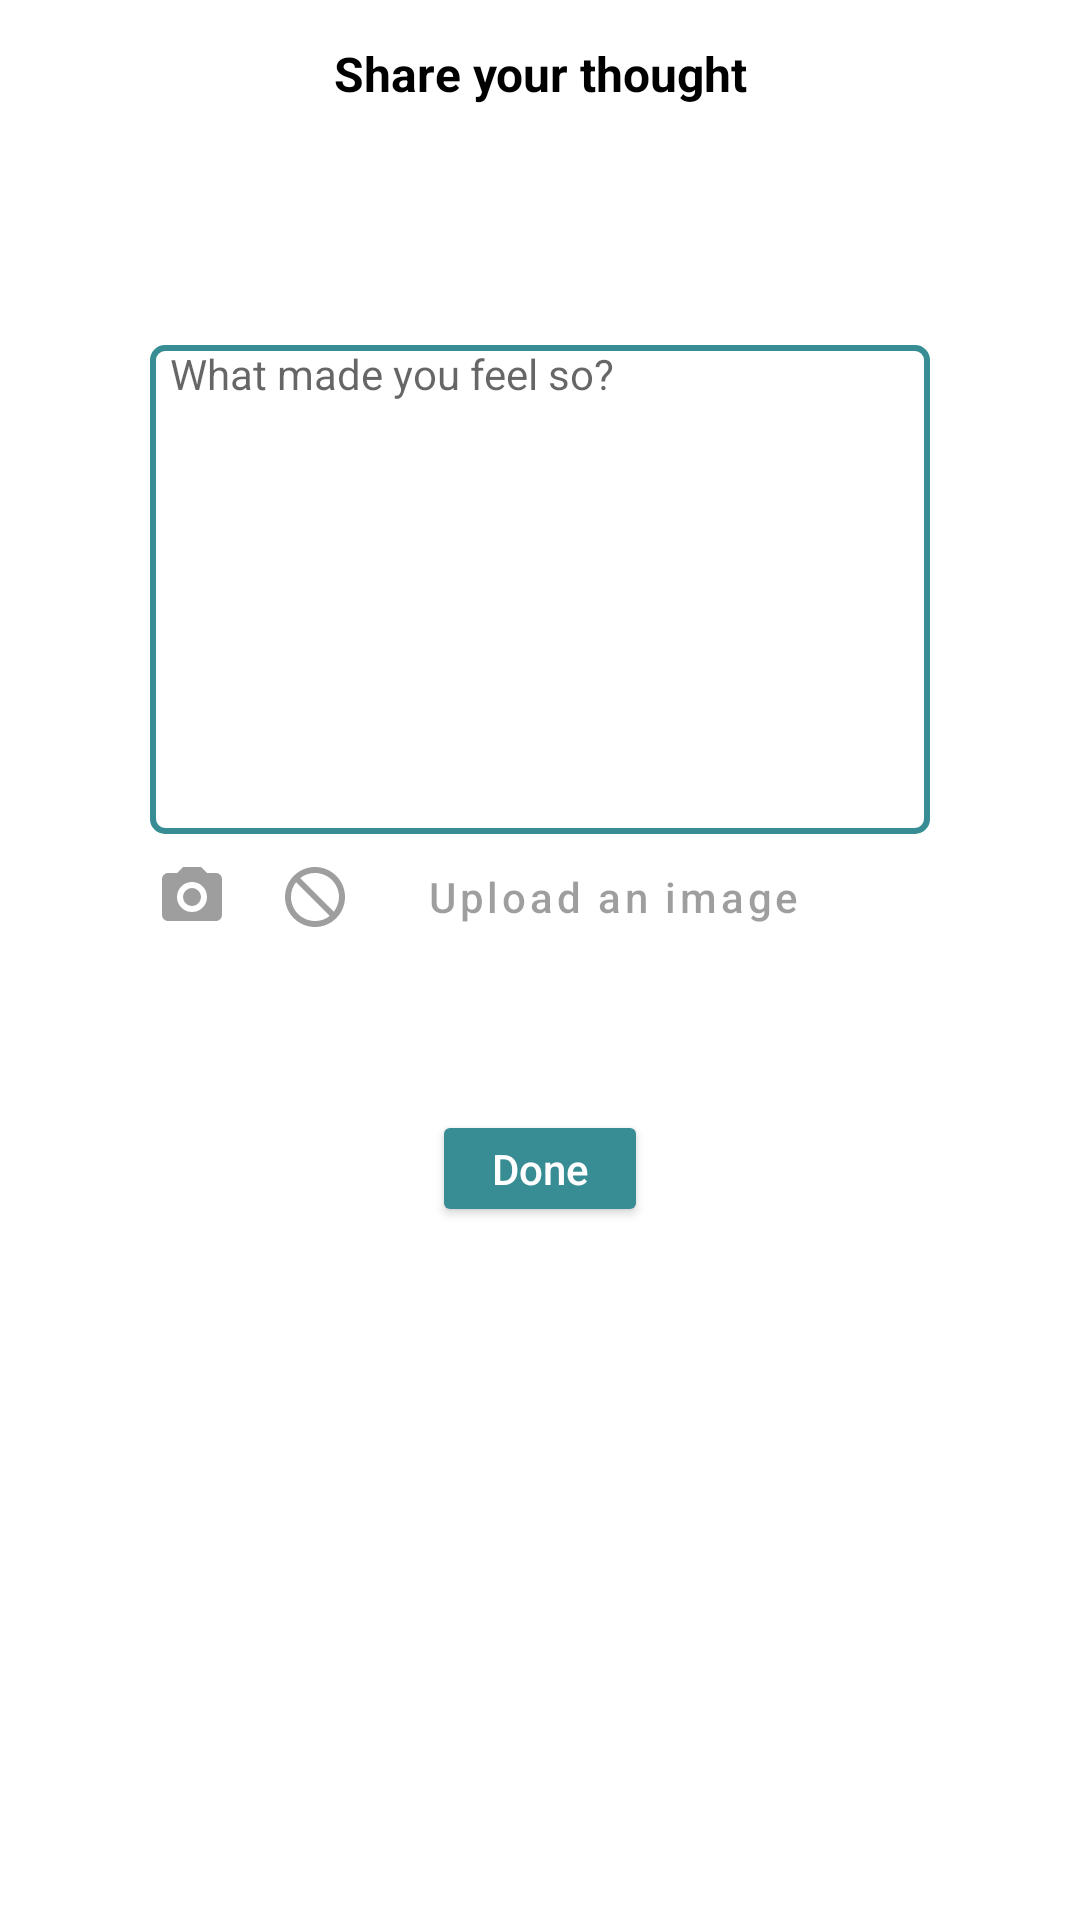

Screen size 1080×1920. Icon name, then its center in pixels as (x,y):
camera: (192,894)
